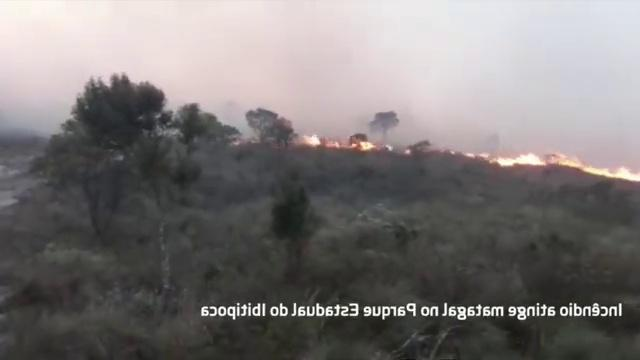fire: (589, 164, 635, 182), (498, 154, 546, 165), (298, 132, 329, 148), (354, 135, 376, 152)
